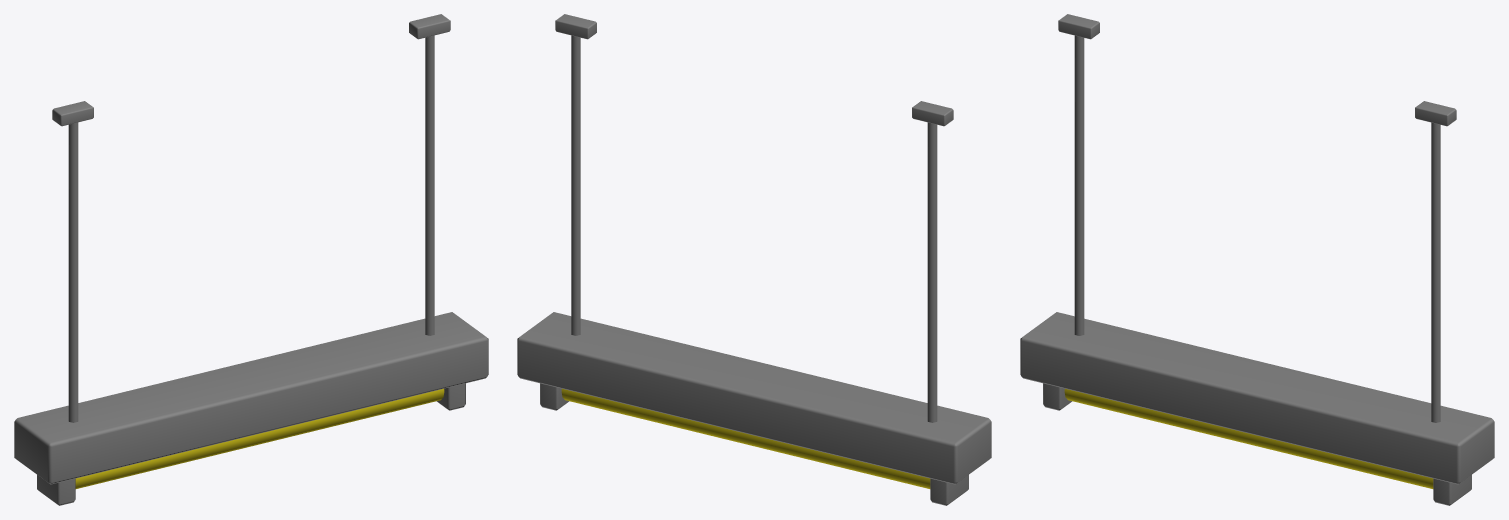
Rendered from SM_lamp_01.fbx.
The picture shows the model from 3 angles, left to right: view 1: azimuth 30°, elevation 25°; view 2: azimuth 150°, elevation 25°; view 3: azimuth 330°, elevation 25°; orthographic projection.
Parts seen in each view (by area): view 1: lamp01; view 2: lamp01; view 3: lamp01.
Part boxes in pixels (x1=…): lamp01: x1=14, y1=14, x2=488, y2=505; lamp01: x1=517, y1=14, x2=991, y2=505; lamp01: x1=1020, y1=14, x2=1494, y2=505.
Size of the model in its own units: 55.07 by 45.94 by 8.01.
